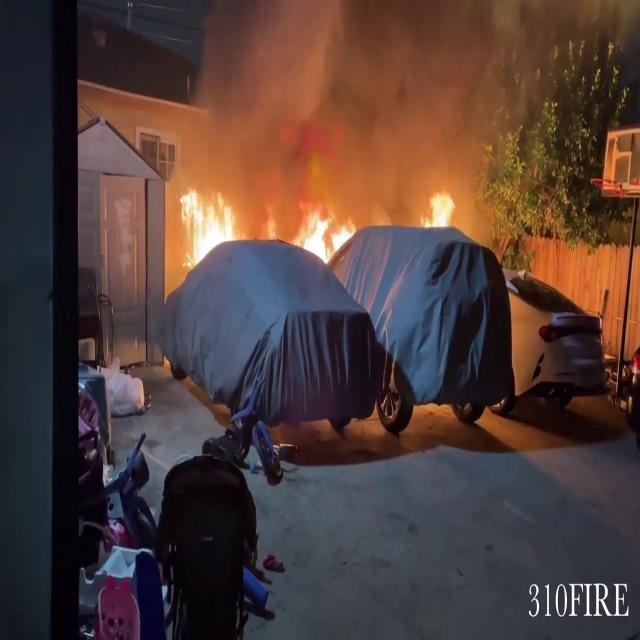Fire: (174, 177, 242, 270), (290, 200, 357, 266), (415, 184, 461, 233)
Smoke: (181, 0, 543, 189)
